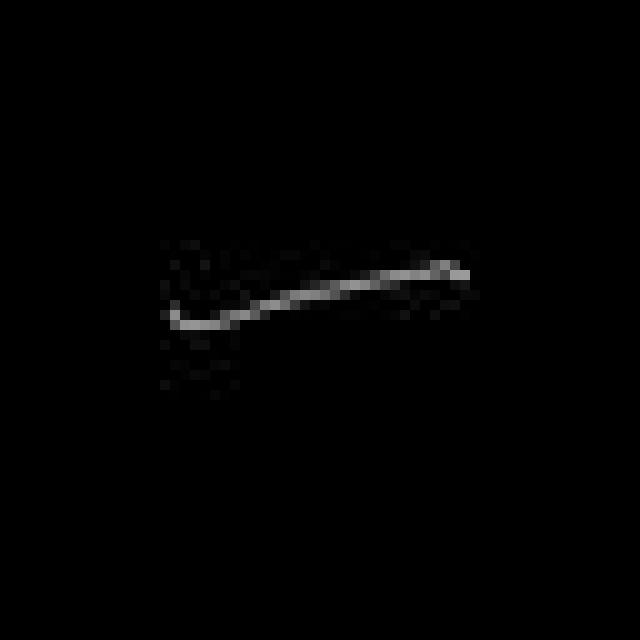1 -one-: (157, 255, 478, 339)
